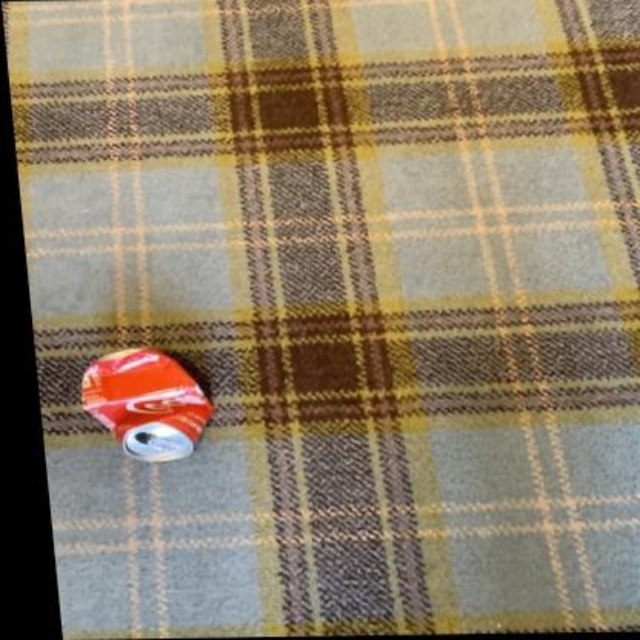trash: (82, 349, 211, 462)
